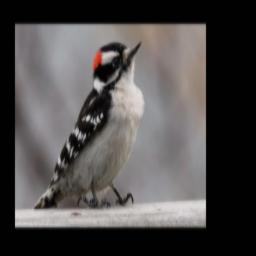Woodpecker: (34, 41, 146, 211)
